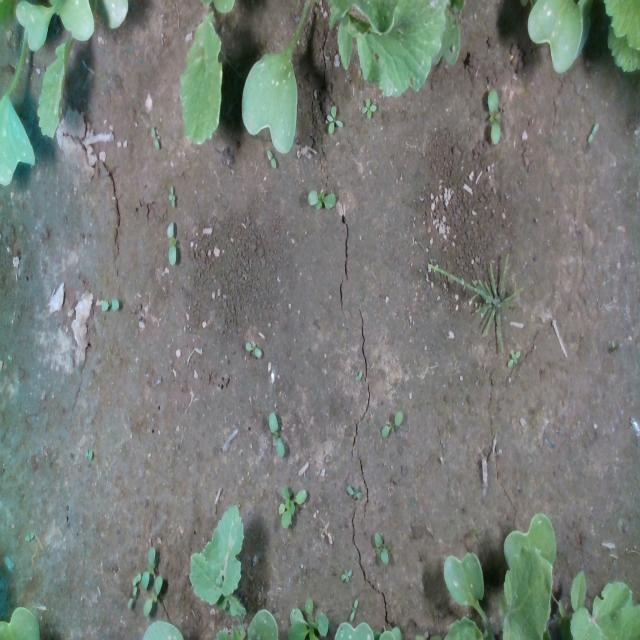weed: (486, 87, 500, 145), (268, 410, 284, 458), (306, 188, 336, 210), (380, 410, 402, 437), (373, 530, 389, 564), (325, 105, 343, 135), (166, 219, 176, 265), (360, 98, 377, 118), (244, 340, 262, 358), (346, 484, 363, 501), (101, 297, 119, 312), (587, 122, 599, 143), (265, 147, 276, 169), (507, 349, 520, 367), (349, 598, 358, 622), (150, 126, 159, 150), (340, 567, 352, 581), (168, 184, 175, 207)
